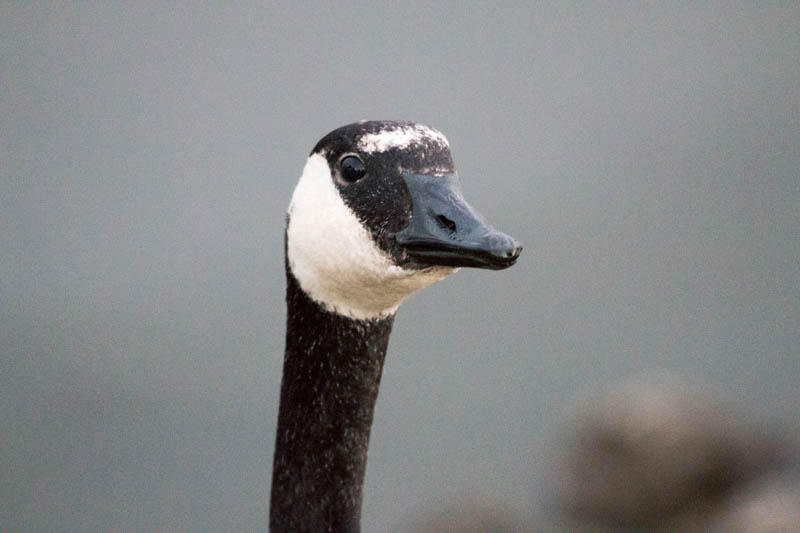goose-head: (284, 120, 522, 318)
